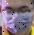with_mask: (1, 2, 34, 35)
